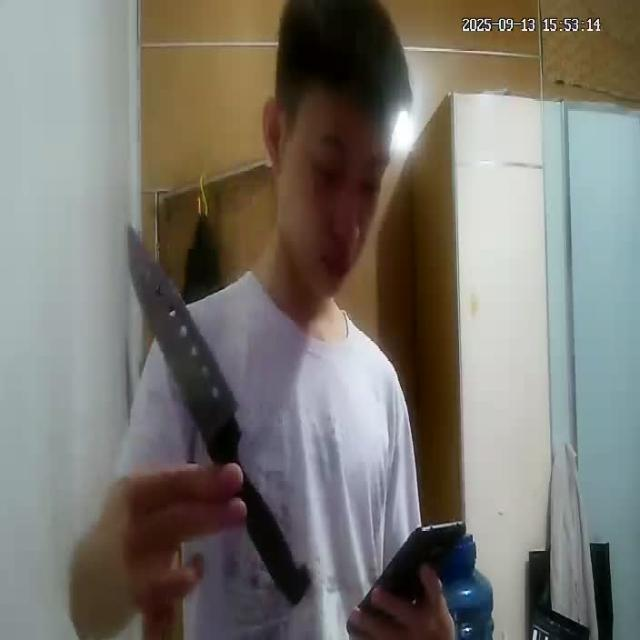senjata_tajam: (126, 218, 245, 466)
